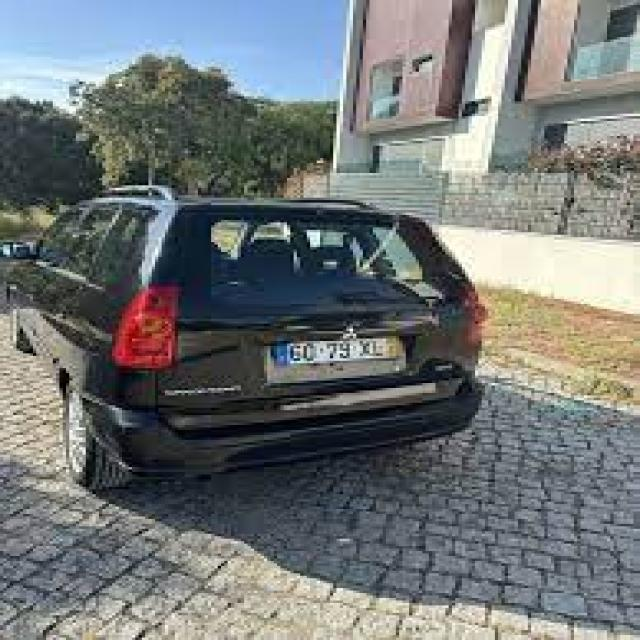portuguese-license-plates: (268, 331, 410, 376)
